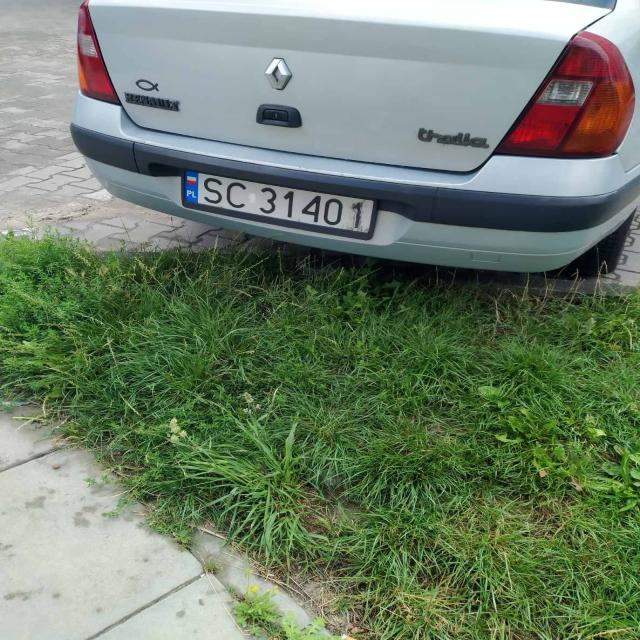pl_license_plate: (185, 171, 372, 232)
